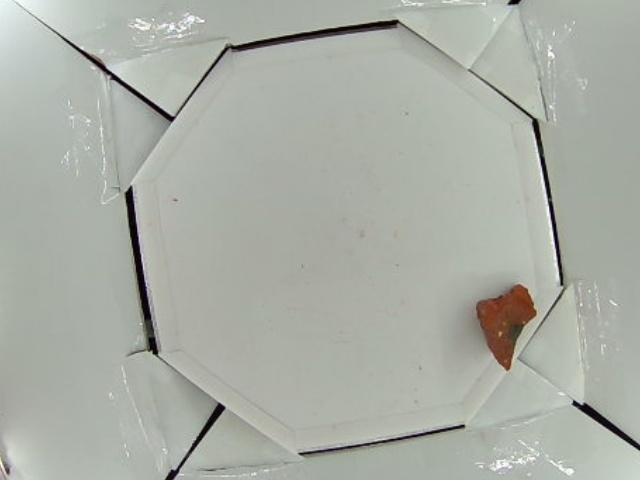Brisk: (472, 284, 538, 371)
